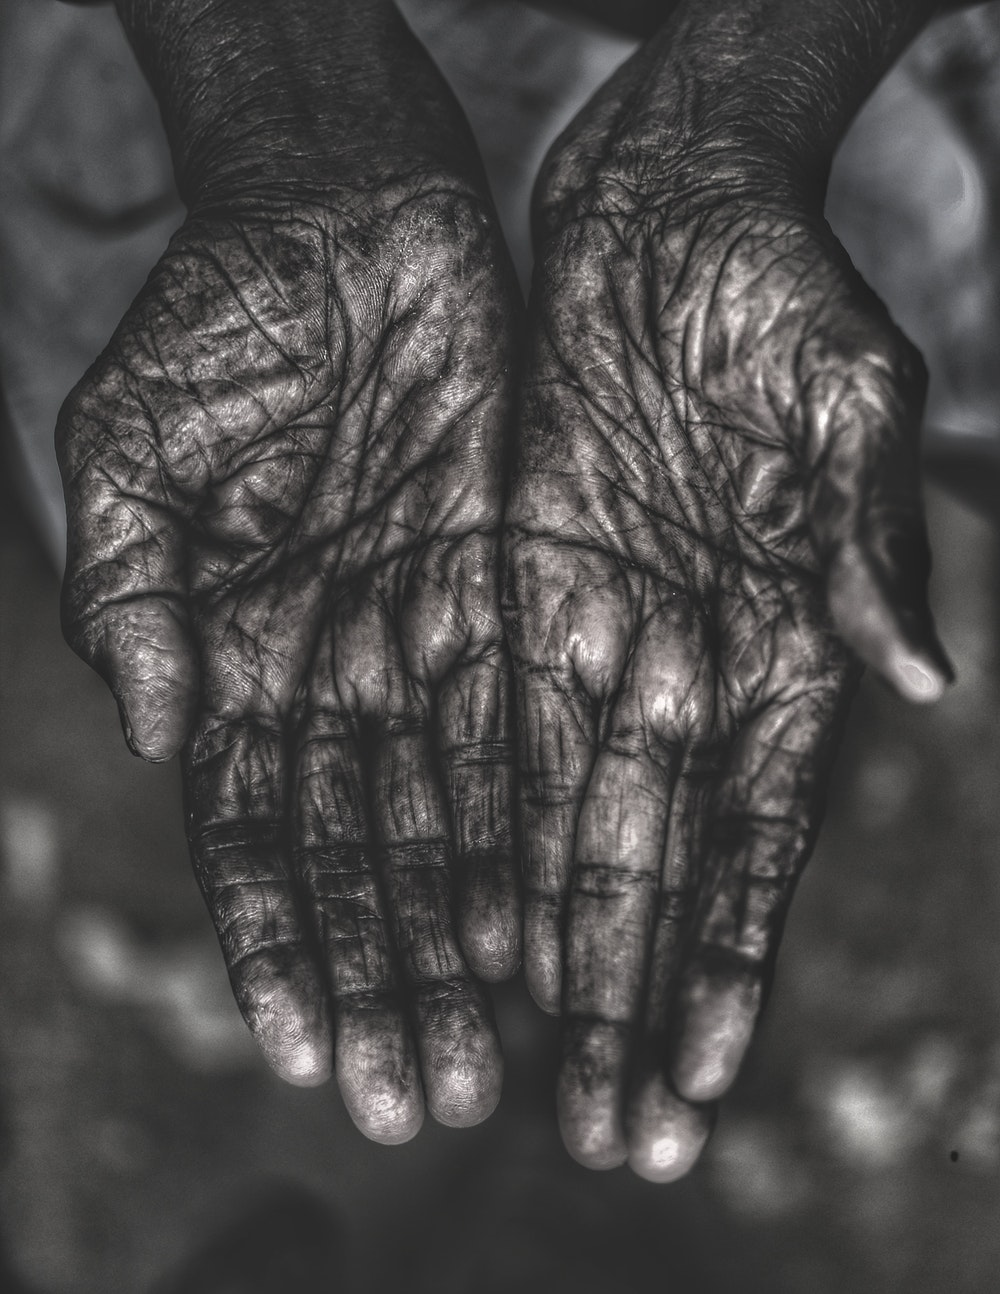palm: (132, 268, 511, 725), (556, 243, 925, 707)
